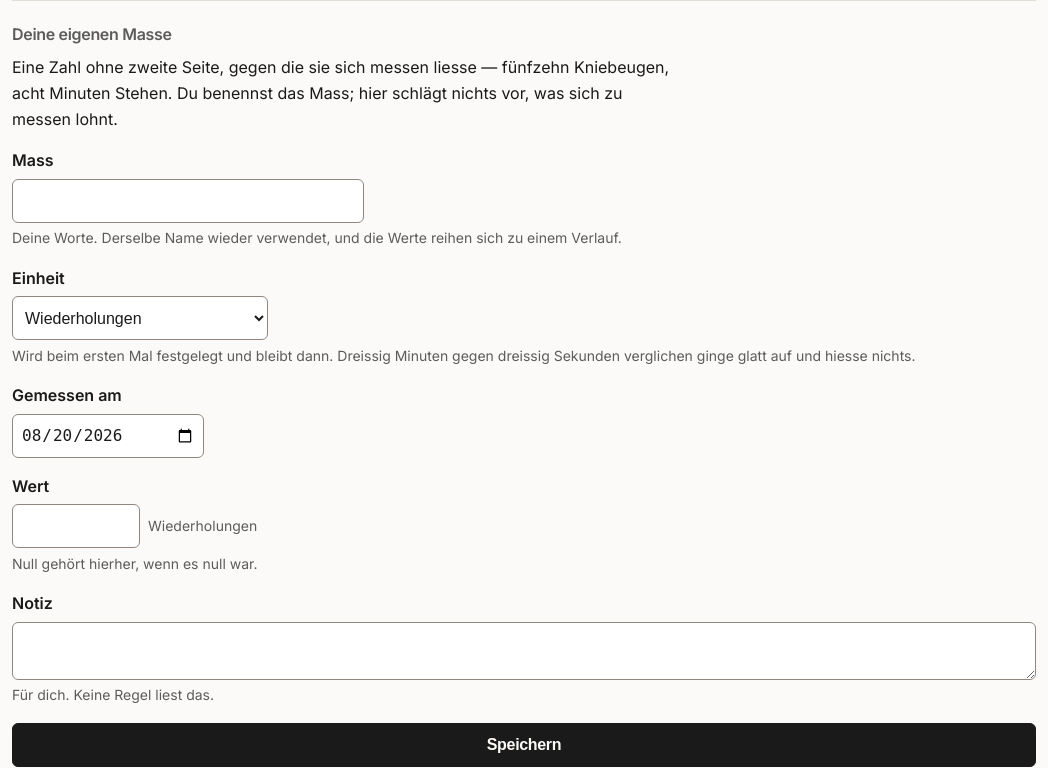
Test: die Einheit friert ein, sobald das Mass sie hat › ersetzt sie bei einem bekannten Mass durch die feste Einheit
In the field labelled "Mass": (188, 201) [12, 179, 364, 223], type "Stehen"
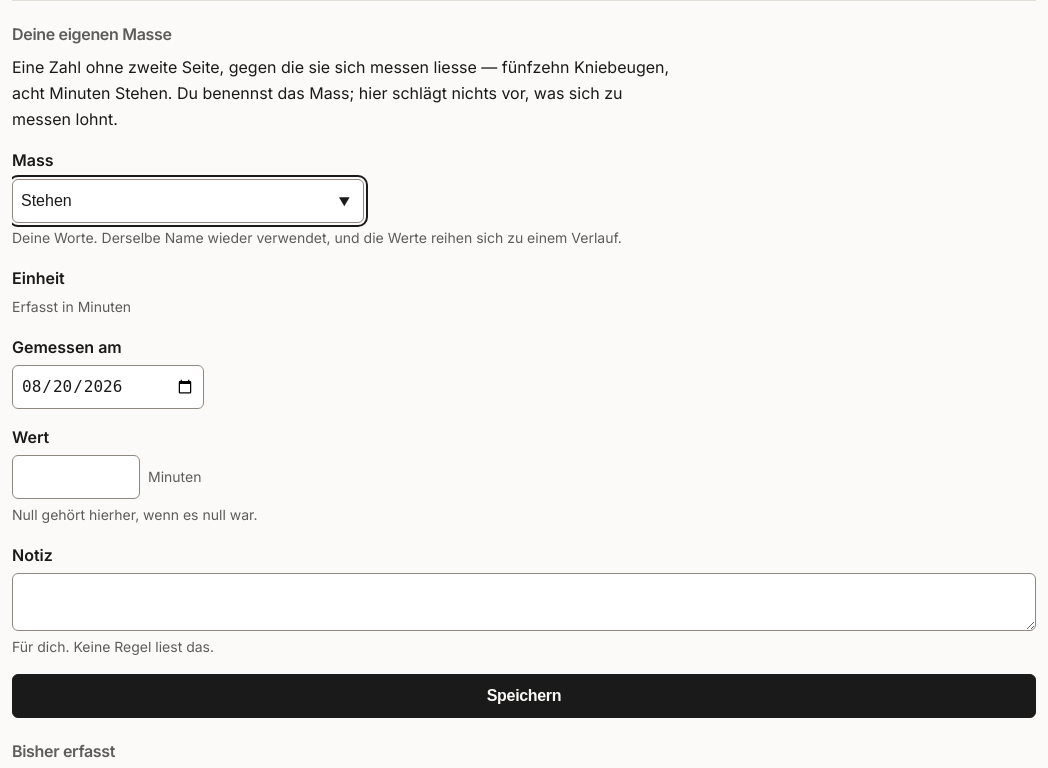
Now the text "Erfasst in Minuten" is shown, box [12, 298, 131, 315]
Now the dropdown is gone
